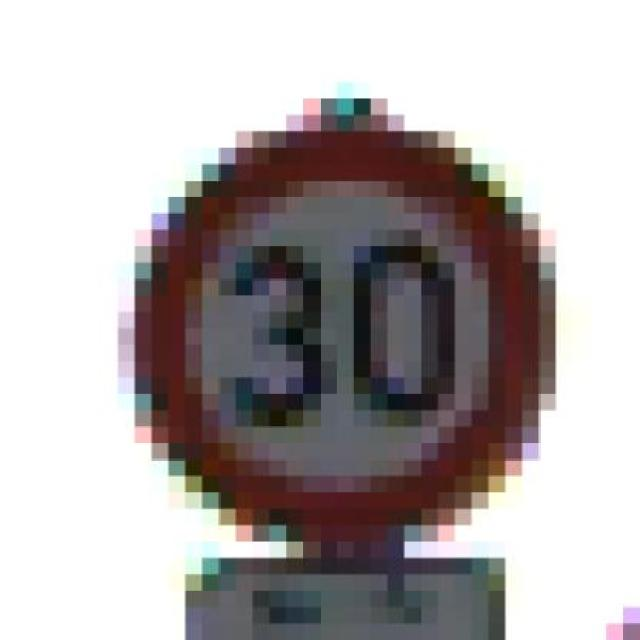Speed Limit 30 KMPh: (50, 99, 590, 558)
